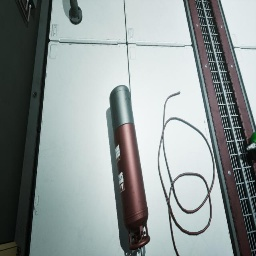0: (246, 131, 256, 154)
NitrogenTank ,: (109, 85, 150, 250)
